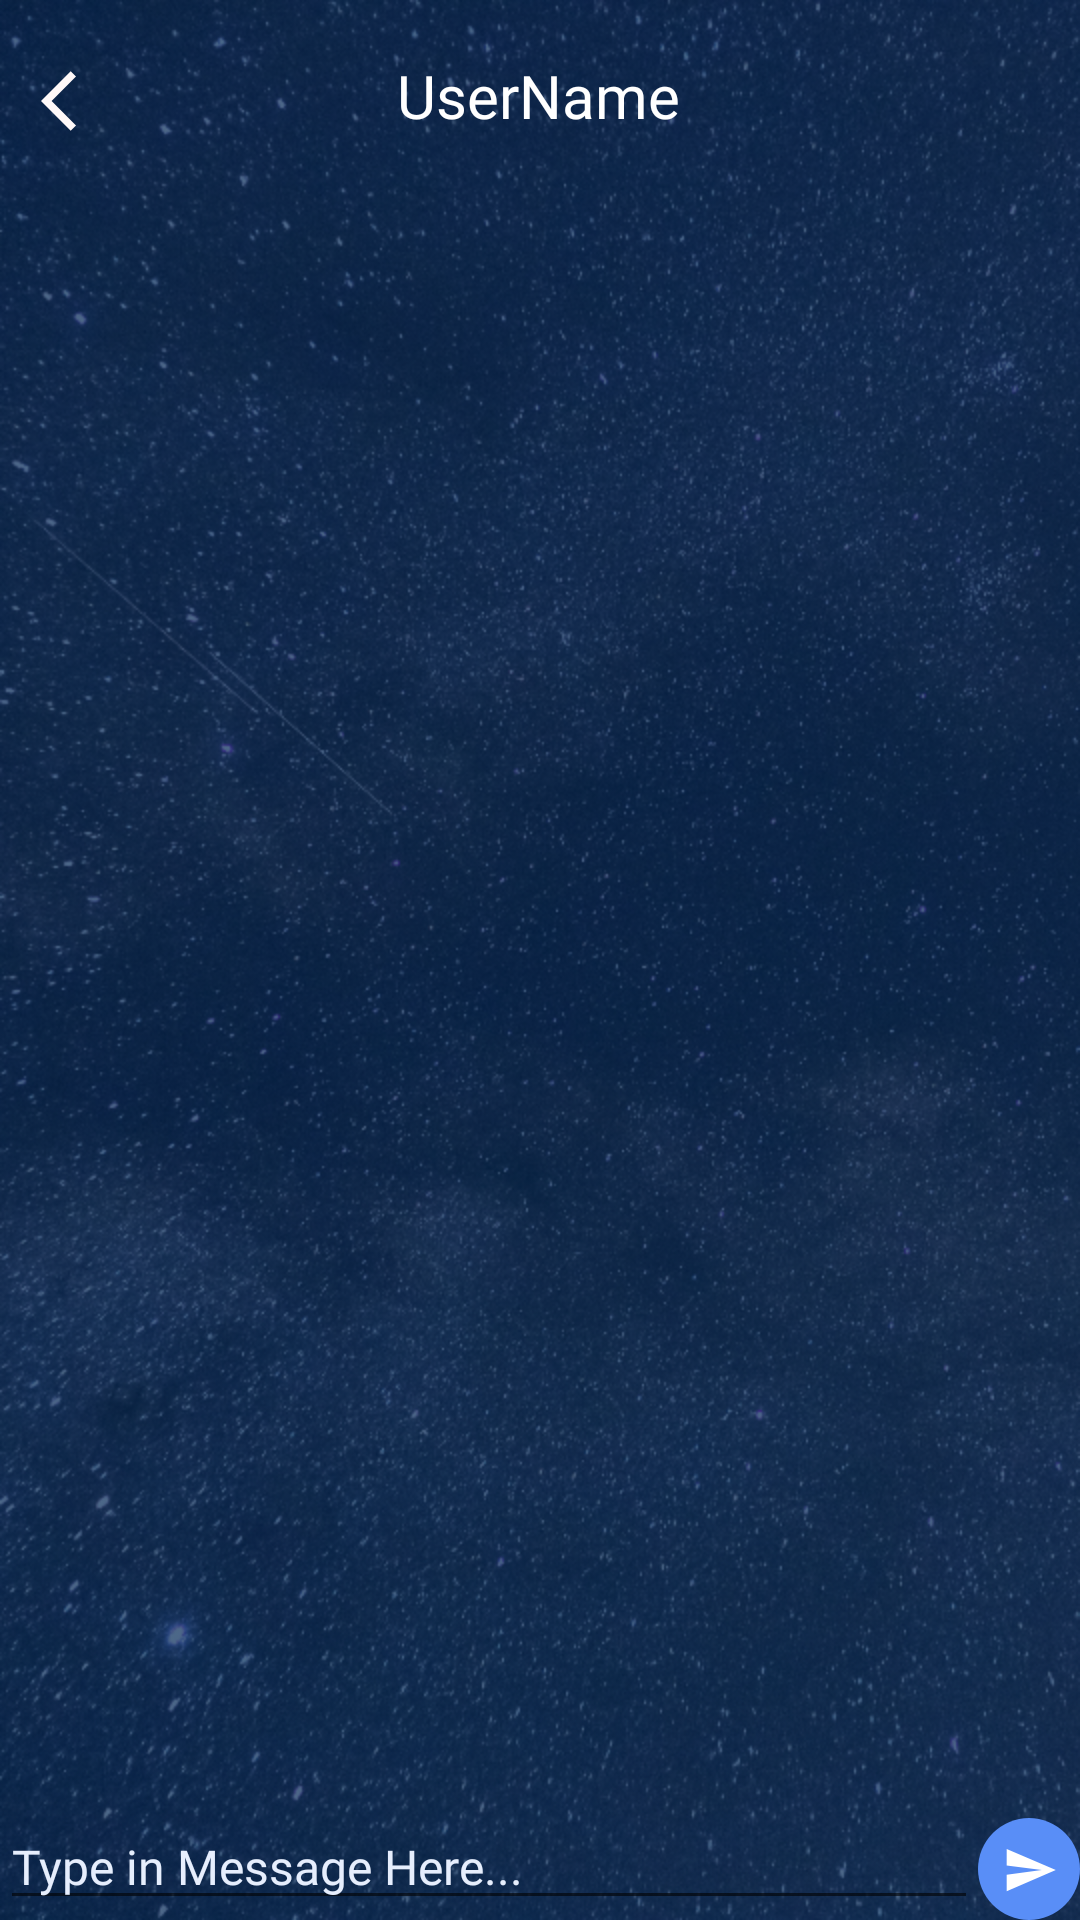

Point at icon controls on the screen. Image size 1080w x 1920h, points as (x=x, y=y).
backarrow: (x=72, y=101)
send: (x=1029, y=1869)
